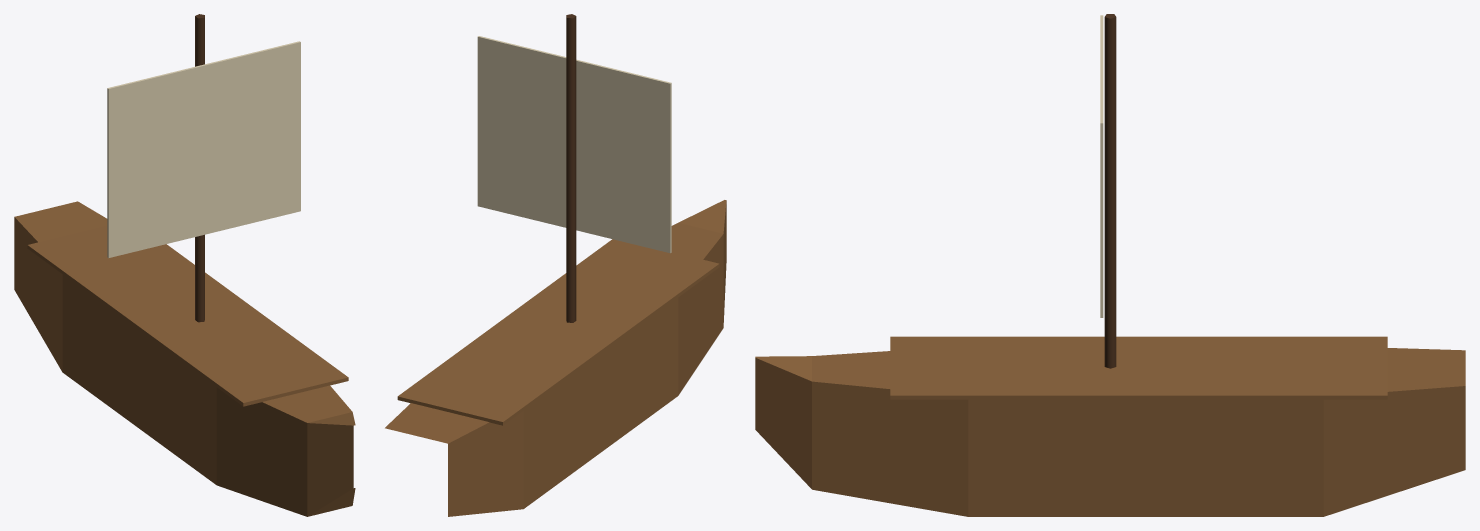
The model's file is veh_naval_merchant_a02_lod2.glb.
The picture shows the model from 3 angles, left to right: view 1: azimuth 30°, elevation 25°; view 2: azimuth 150°, elevation 25°; view 3: azimuth 270°, elevation 25°; orthographic projection. The views are drawn at different scales.
Visible parts, largest first — view 1: body, sail_0; view 2: body, sail_0; view 3: body, sail_0.
Part boxes in pixels (left/top/right/bottom): body: left=14, top=14, right=355, bottom=516; sail_0: left=107, top=41, right=300, bottom=258; body: left=385, top=14, right=726, bottom=516; sail_0: left=477, top=36, right=671, bottom=253; body: left=755, top=14, right=1465, bottom=516; sail_0: left=1100, top=15, right=1103, bottom=317.
Size of the model in its own units: 4.46 by 9.16 by 12.4.
